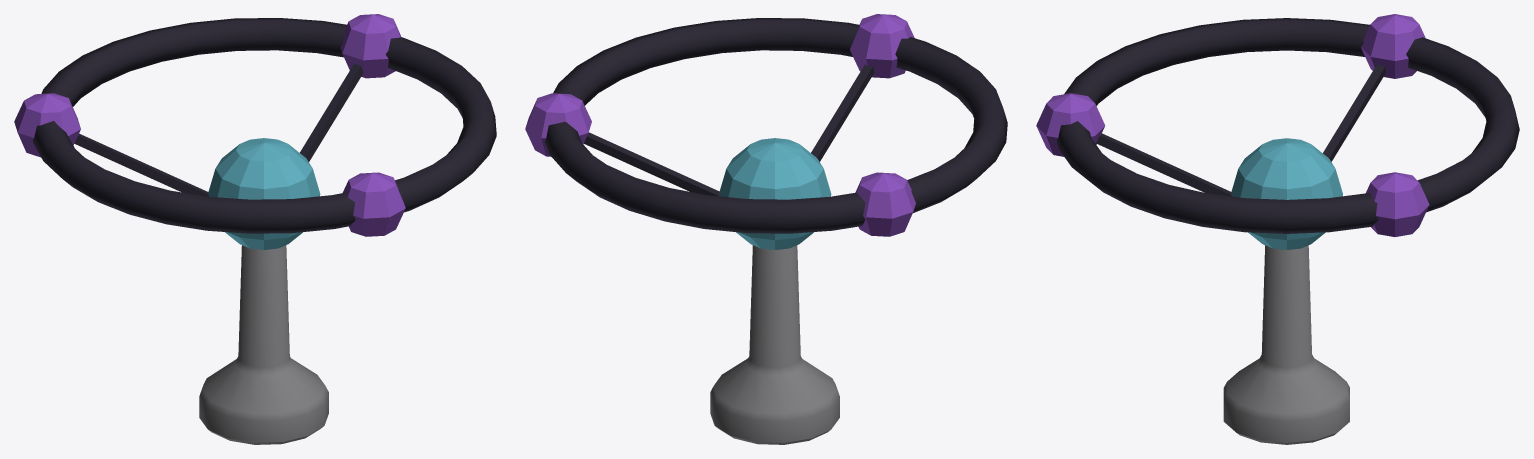
File: Kit_Deco_LeagueHalo.glb
3 views of the same model, side by side, from view 1: azimuth 30°, elevation 25°; view 2: azimuth 150°, elevation 25°; view 3: azimuth 270°, elevation 25° (orthographic).
Visible parts, largest first — view 1: Kit_Deco_LeagueHalo; view 2: Kit_Deco_LeagueHalo; view 3: Kit_Deco_LeagueHalo.
Boxes of the visible parts, x1,y1,x2,y2 form: Kit_Deco_LeagueHalo: (14, 14, 496, 444); Kit_Deco_LeagueHalo: (525, 14, 1007, 444); Kit_Deco_LeagueHalo: (1036, 14, 1519, 444).
Size of the model in its own units: 0.2155 by 0.166 by 0.2237.
